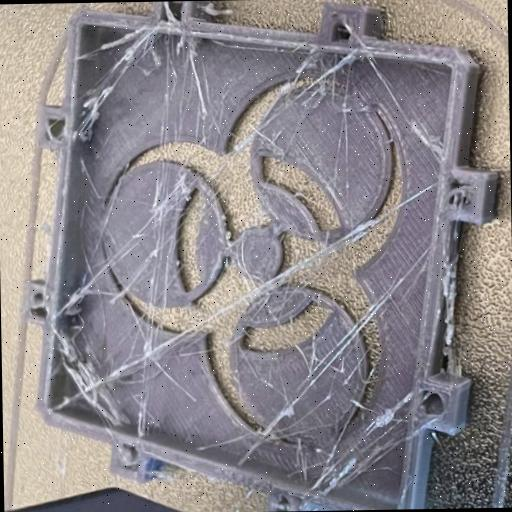stringing: (52, 171, 438, 417), (224, 236, 433, 469), (131, 189, 195, 441), (297, 383, 412, 502), (55, 233, 155, 330), (50, 324, 121, 435), (296, 55, 356, 99), (95, 36, 154, 80), (76, 82, 110, 142)
